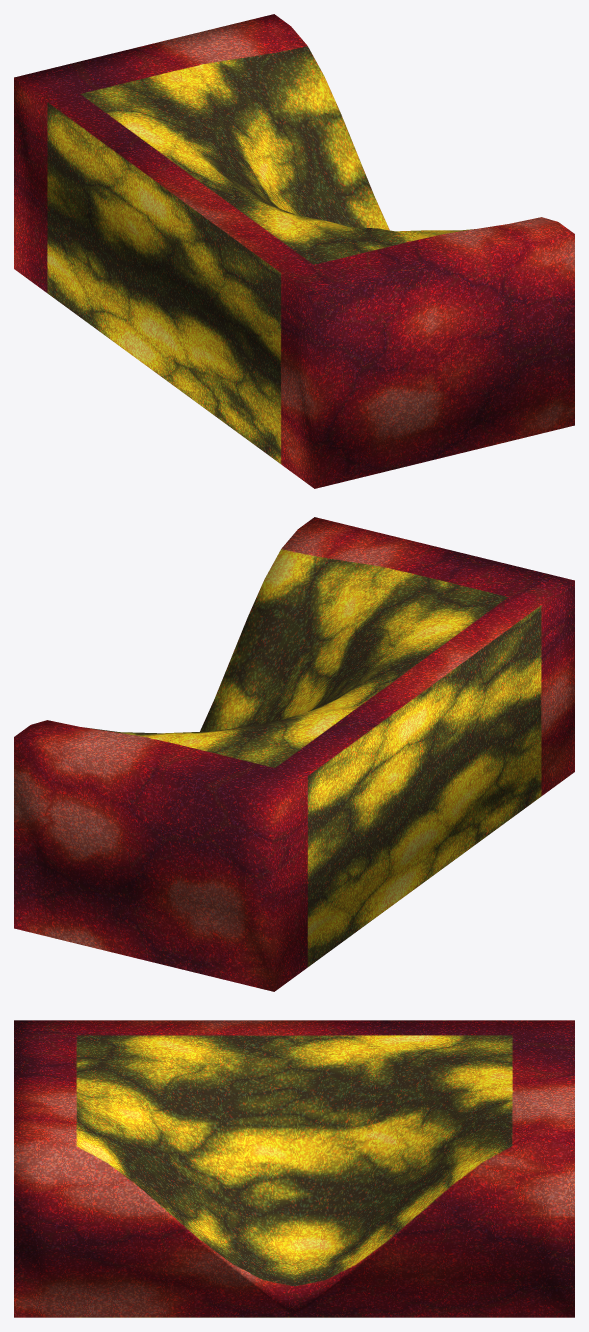
File: AcidPit.fbx
3 views of the same model, one above another, from view 1: azimuth 30°, elevation 25°; view 2: azimuth 150°, elevation 25°; view 3: azimuth 270°, elevation 25° (orthographic). The views are drawn at different scales.
Visible parts, largest first — view 1: Cube; view 2: Cube; view 3: Cube.
Part boxes in pixels (x1,y1,x2,y2): Cube: (14,14,574,488); Cube: (14,517,574,991); Cube: (14,1020,574,1317).
Size of the model in its own units: 1000 by 702 by 2000.
2 materials, 2 textured.
